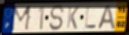1: (38, 5, 46, 31)
A: (96, 4, 117, 31)
K: (66, 6, 80, 31)
L: (85, 6, 97, 30)
M: (10, 4, 33, 32)
S: (49, 5, 65, 32)
